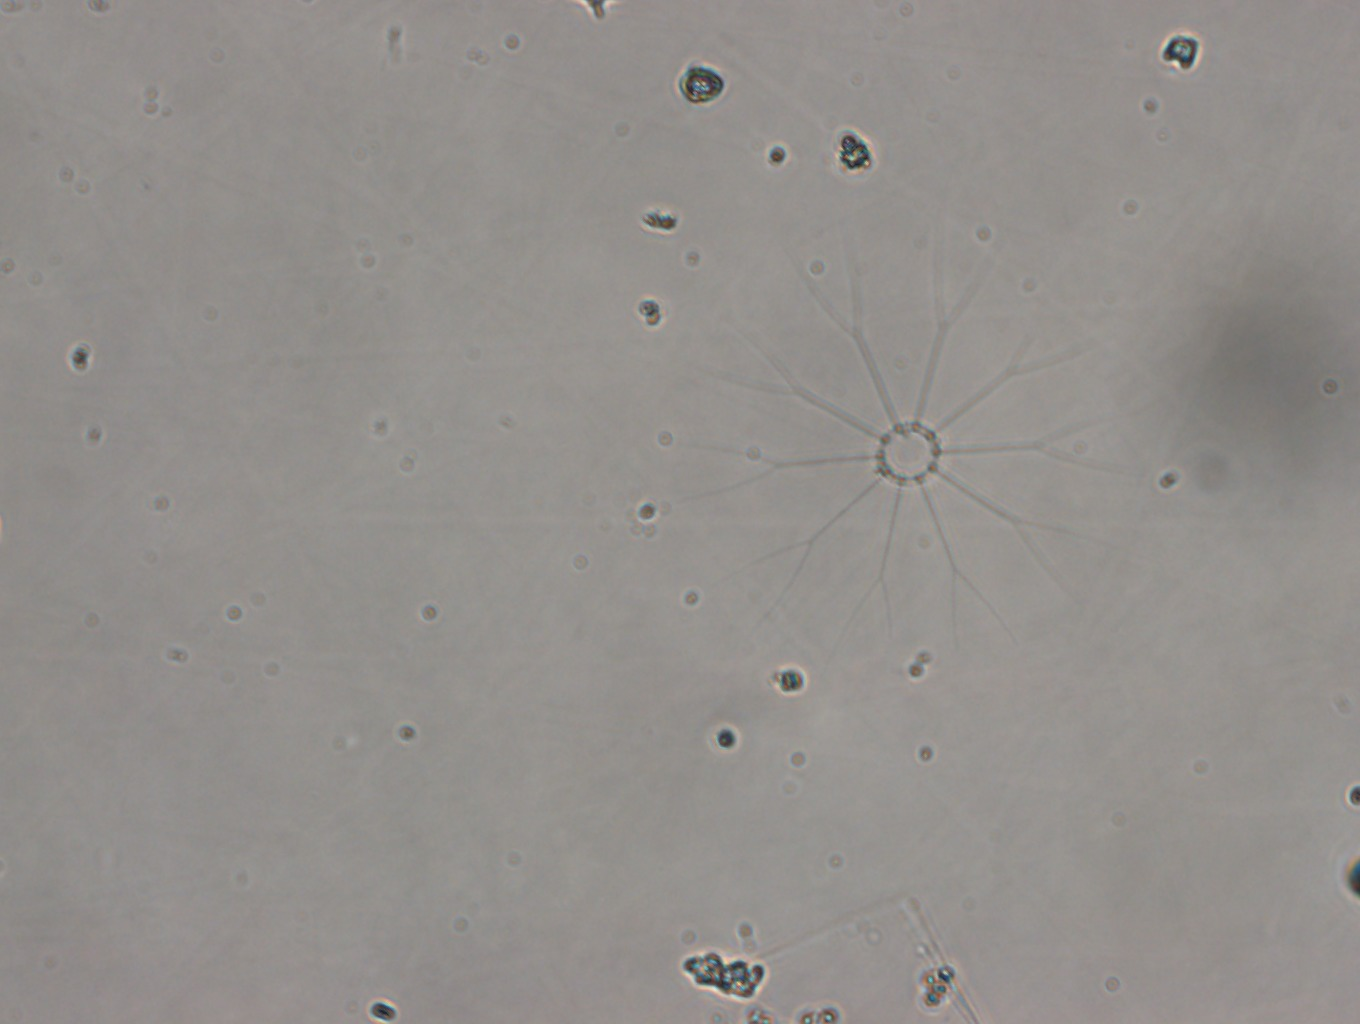bacteriastrum: (670, 221, 1141, 656)
